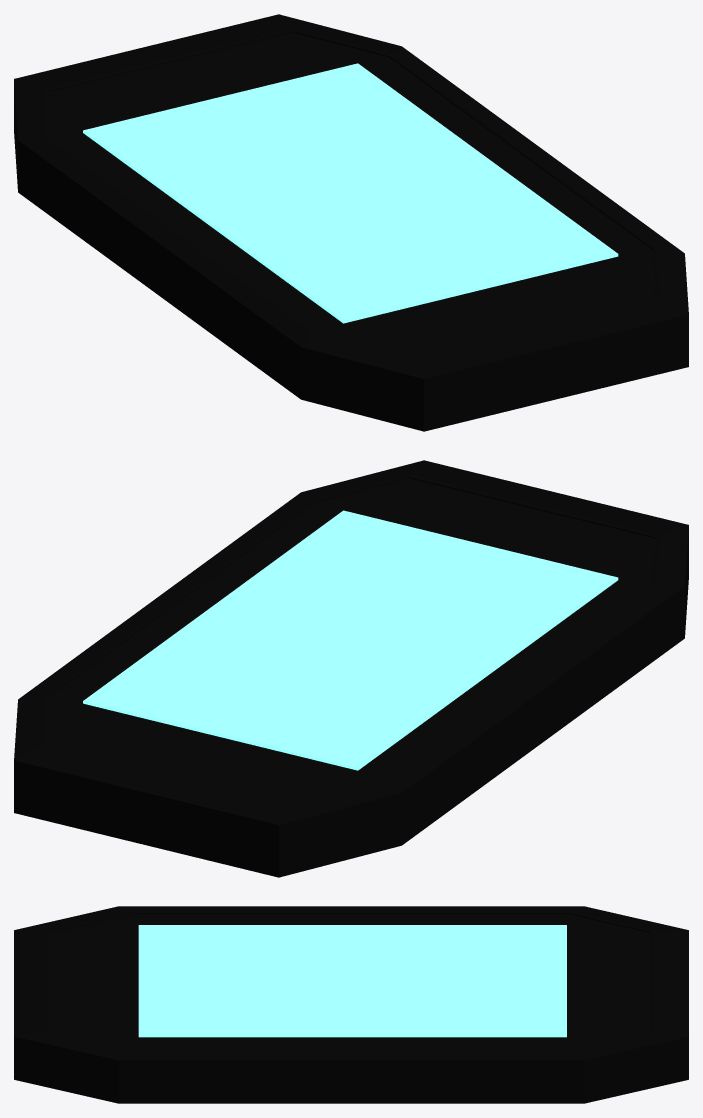
File: DataPad.fbx
3 renders of one model, top to bottom at view 1: azimuth 30°, elevation 25°; view 2: azimuth 150°, elevation 25°; view 3: azimuth 270°, elevation 25°, orthographic. The views are drawn at different scales.
Parts seen in each view (by area): view 1: Cube, Cube.001; view 2: Cube, Cube.001; view 3: Cube, Cube.001.
Part boxes in pixels (x1=…): Cube: x1=14, y1=14, x2=688, y2=431; Cube.001: x1=83, y1=63, x2=618, y2=323; Cube: x1=14, y1=460, x2=688, y2=877; Cube.001: x1=83, y1=510, x2=618, y2=770; Cube: x1=14, y1=906, x2=688, y2=1103; Cube.001: x1=138, y1=925, x2=566, y2=1037.
Bounding box in the file's own units: 89.03 × 13.23 × 165.
